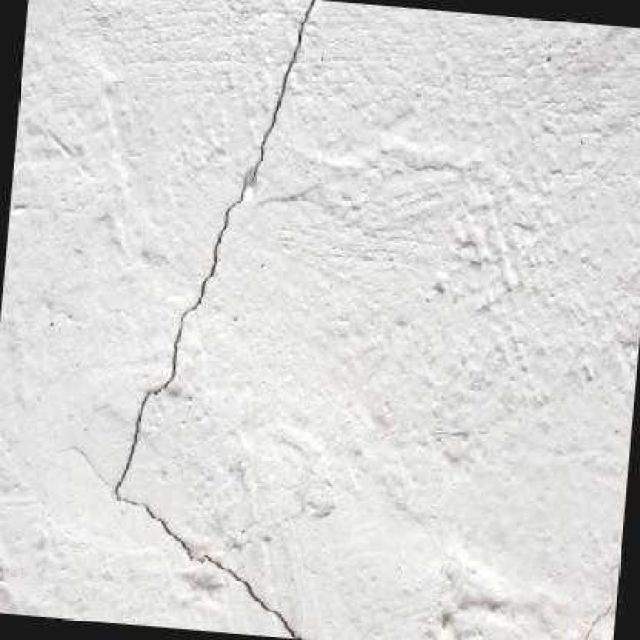D00: (113, 0, 320, 640), (565, 552, 621, 640)
